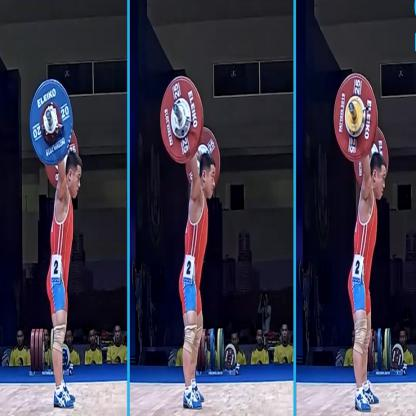Barbell: (332, 60, 383, 169), (158, 70, 209, 168), (28, 74, 74, 174)
